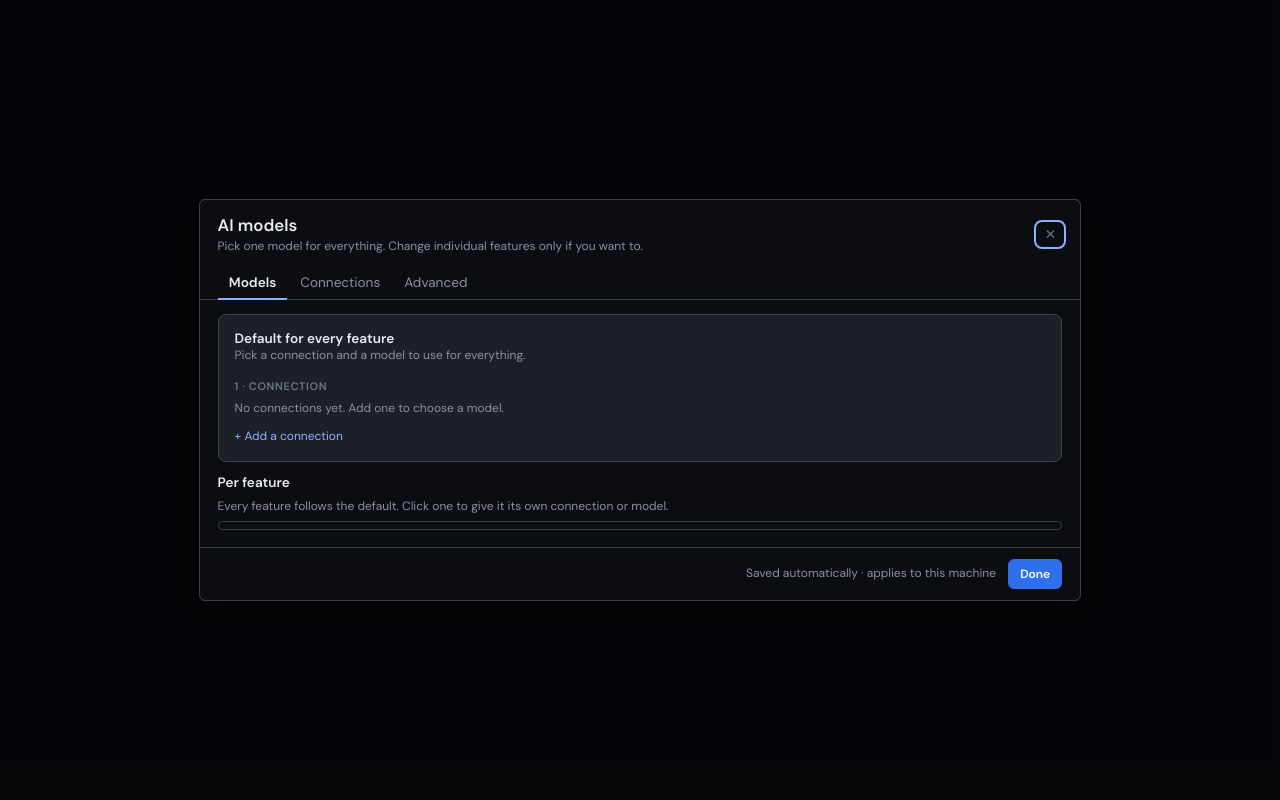
Scenario: LlmSettingsPanel › switches to the advanced tab, which no longer repeats the agent-window picker
This screenshot has width=1280, height=800.
Click the tab with test id "llm-settings-tab-advanced" at (436, 283), box [393, 267, 479, 300]
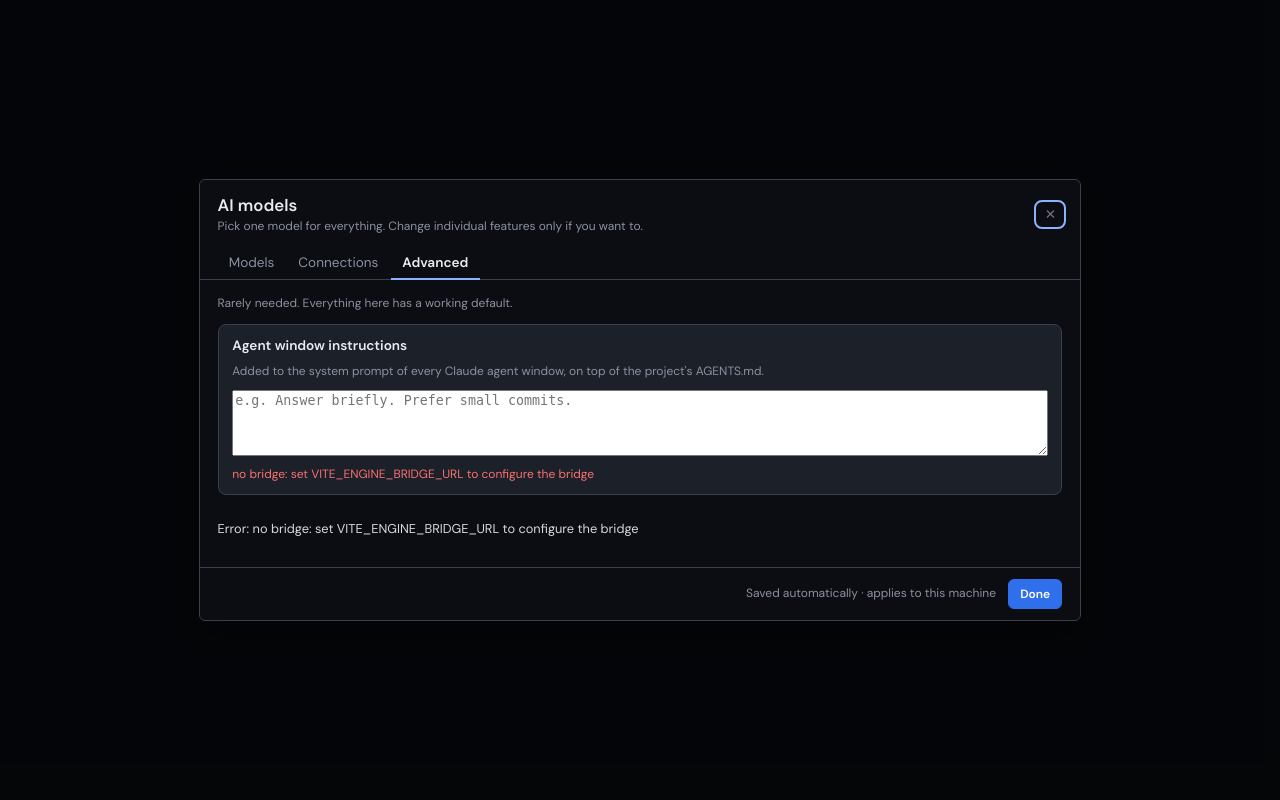
Check: the element with test id "llm-advanced-tab" is shown, box [218, 294, 1062, 550]
